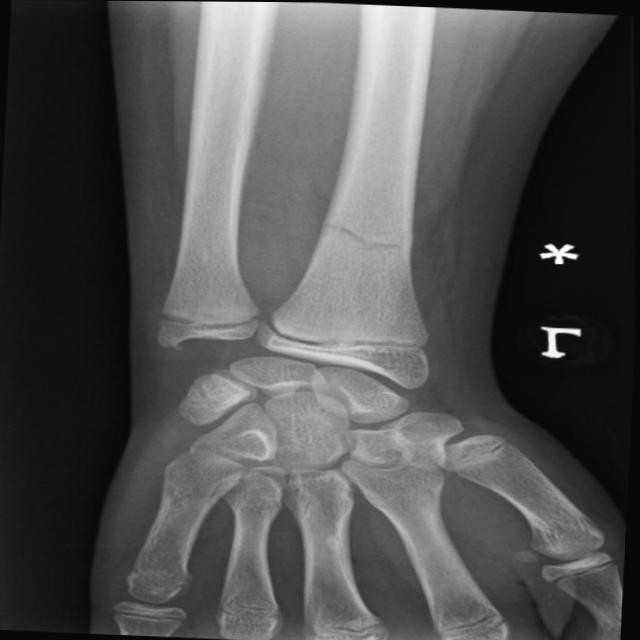Transverse Displaced: (315, 199, 436, 271)
